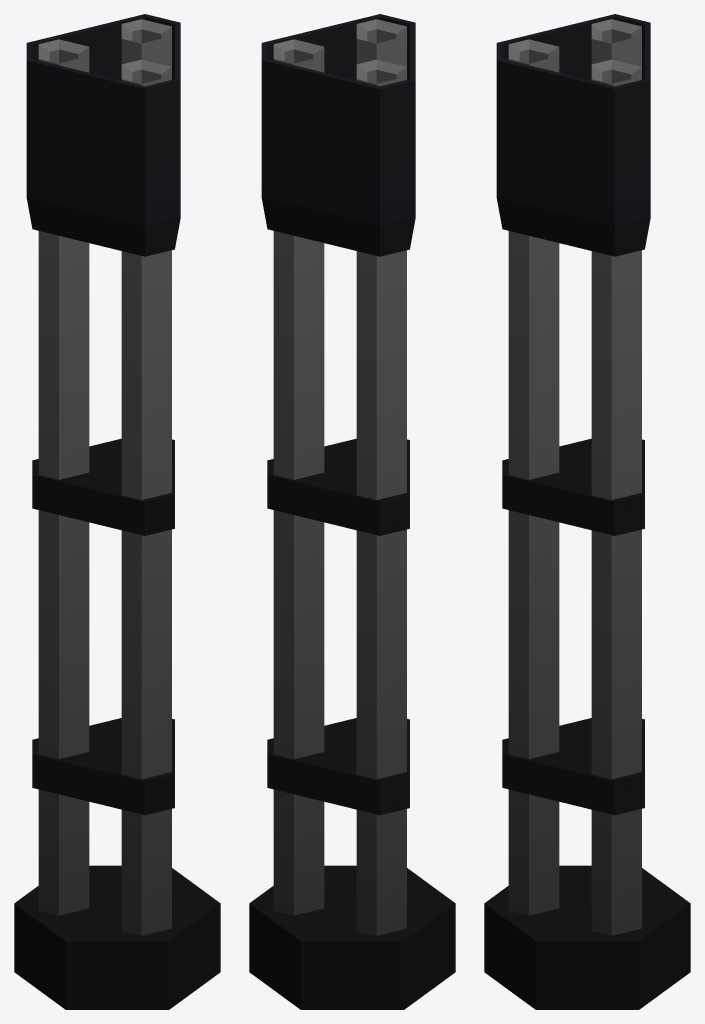
File: Turret MK1 Machine Gun.glb
3 renders of one model, left to right at view 1: azimuth 30°, elevation 25°; view 2: azimuth 150°, elevation 25°; view 3: azimuth 270°, elevation 25°, orthographic.
Parts seen in each view (by area): view 1: MK_1_Machine_Gun_Weapon; view 2: MK_1_Machine_Gun_Weapon; view 3: MK_1_Machine_Gun_Weapon.
Boxes of the visible parts, <box> form: MK_1_Machine_Gun_Weapon: <box>14,14,220,1009</box>; MK_1_Machine_Gun_Weapon: <box>249,14,455,1009</box>; MK_1_Machine_Gun_Weapon: <box>484,14,690,1009</box>.
Bounding box in the file's own units: 0.1316 × 0.7478 × 0.152.
1 material, 1 textured.
